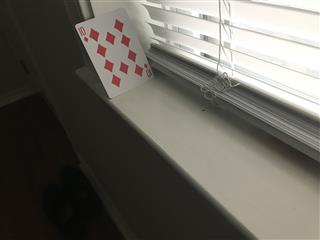TenOfDiamonds: (73, 7, 156, 99)
